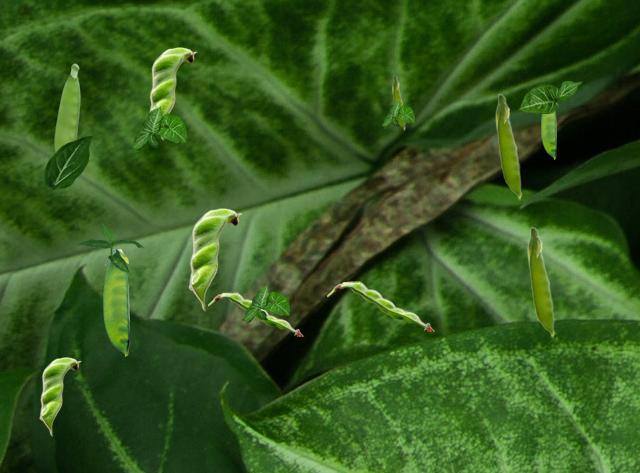pea: (188, 208, 241, 310), (327, 281, 433, 330), (149, 47, 196, 139), (208, 292, 302, 335), (39, 357, 80, 435), (527, 226, 554, 337), (495, 93, 521, 199), (103, 249, 128, 355), (54, 63, 79, 151), (392, 75, 404, 129), (541, 112, 555, 158)
